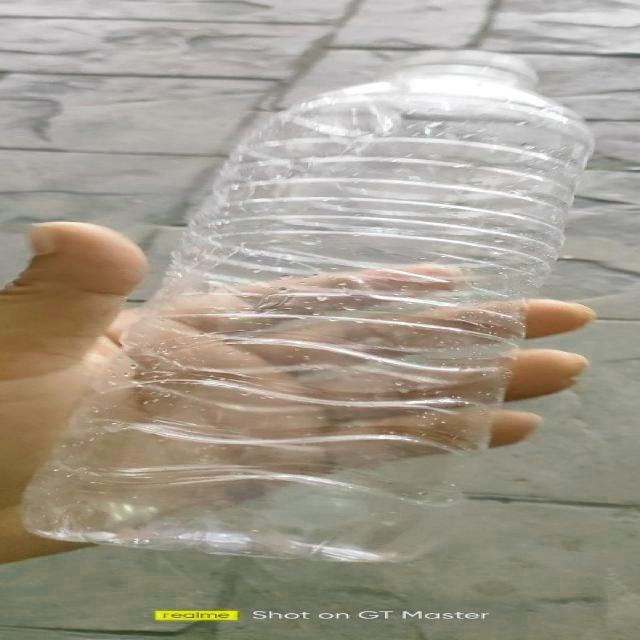bottle: (18, 51, 596, 562)
